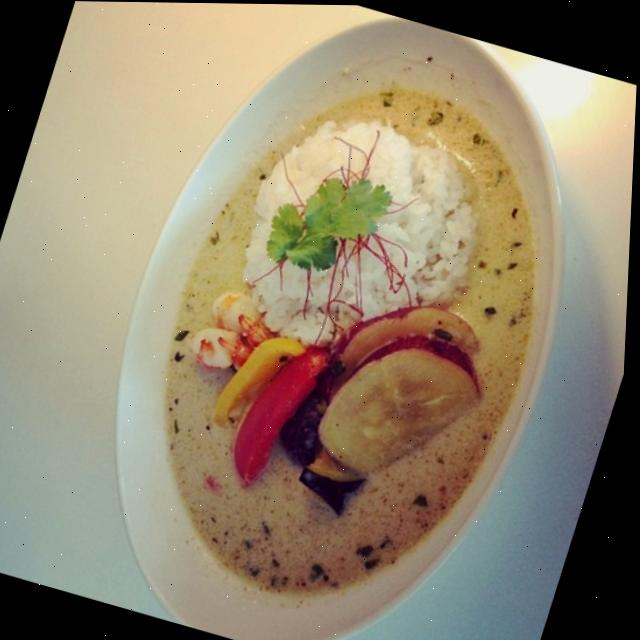面条主食: (0, 17, 639, 640)
